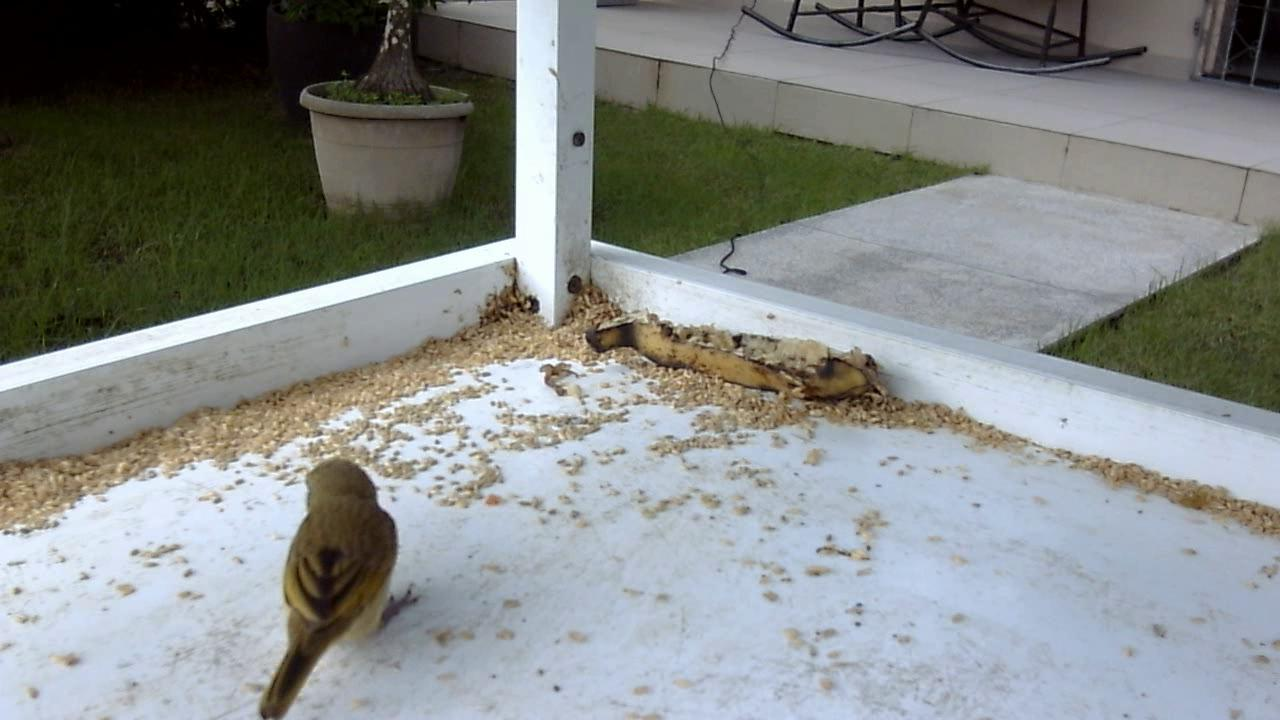canario_do_amazonas: (236, 455, 433, 716)
